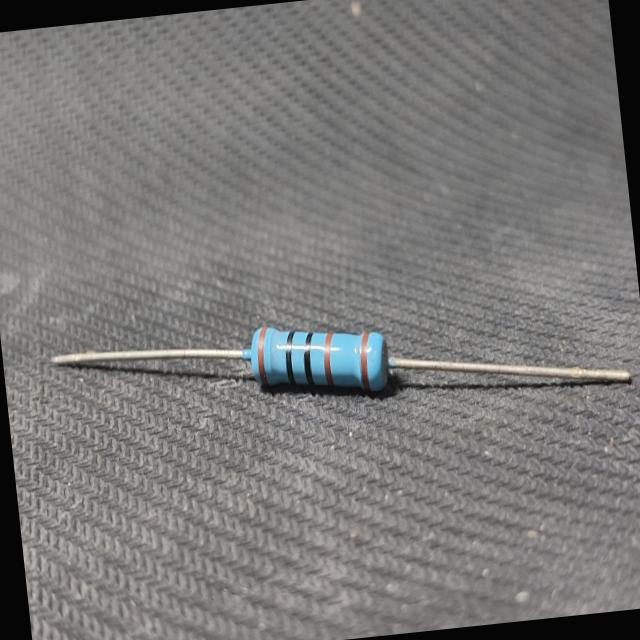resistor: (40, 273, 640, 472)
